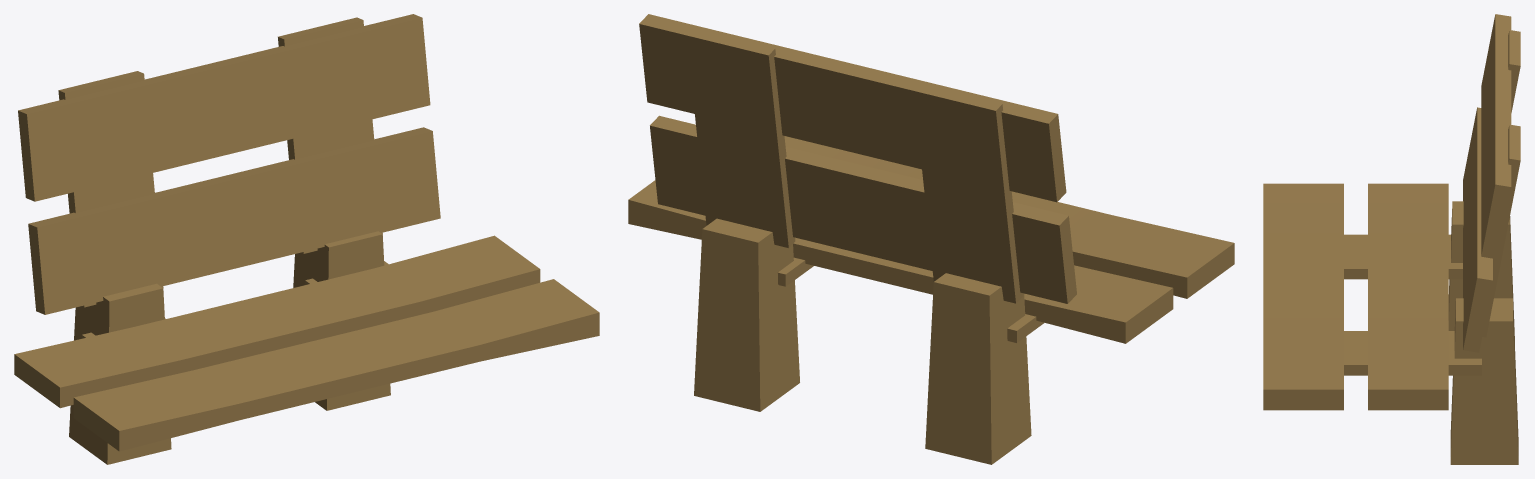
The model's file is Bench.FBX.
3 renders of one model, left to right at view 1: azimuth 30°, elevation 25°; view 2: azimuth 150°, elevation 25°; view 3: azimuth 270°, elevation 25°, orthographic. The views are drawn at different scales.
Parts seen in each view (by area): view 1: Bench; view 2: Bench; view 3: Bench.
Boxes of the visible parts, box(x1,y1,x2,y2) form: Bench: box(14, 14, 599, 464); Bench: box(628, 14, 1234, 464); Bench: box(1263, 14, 1520, 464).
Size of the model in its own units: 82.98 by 57.71 by 43.61.
Materials: 1 (1 with a texture image).
